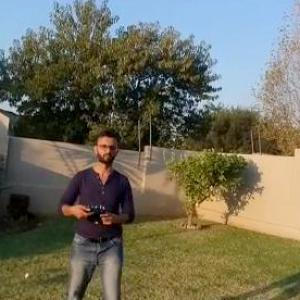follow: (54, 126, 142, 299)
